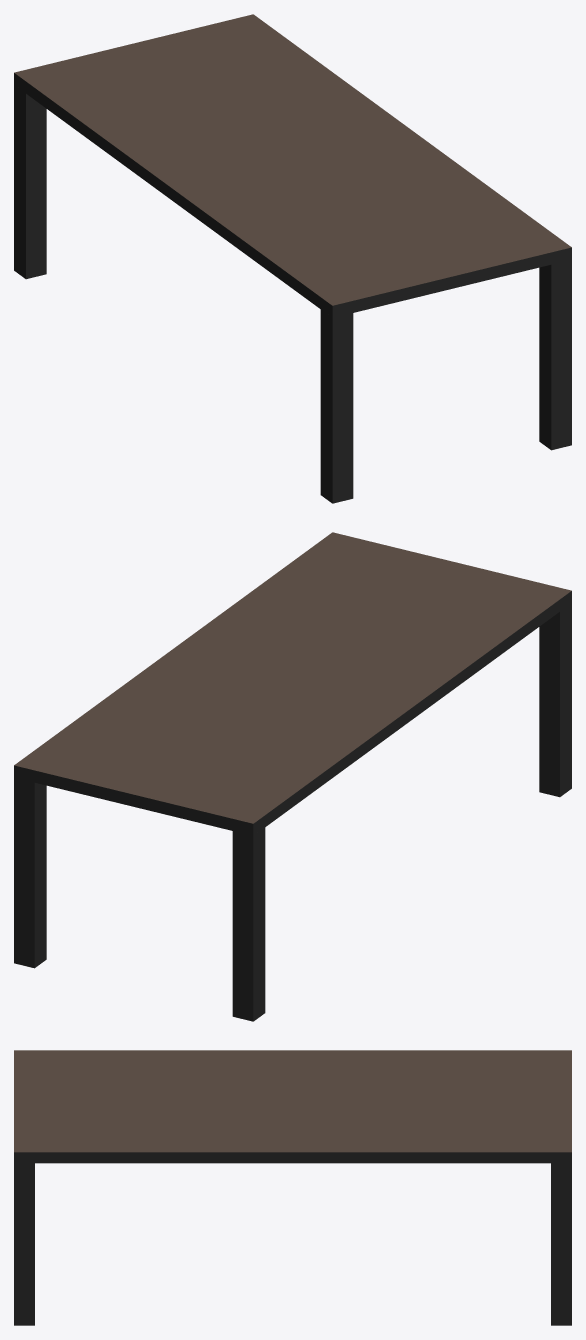
File: GrandeTable_10.fbx
The picture shows the model from 3 angles, top to bottom: view 1: azimuth 30°, elevation 25°; view 2: azimuth 150°, elevation 25°; view 3: azimuth 270°, elevation 25°; orthographic projection. The views are drawn at different scales.
Visible parts, largest first — view 1: pCube43, pCube47, pCube46, pCube49; view 2: pCube43, pCube49, pCube48, pCube47; view 3: pCube43, pCube48, pCube46.
Boxes of the visible parts, bbox=[...] form: pCube43: bbox=[14, 14, 571, 317]; pCube47: bbox=[320, 309, 353, 503]; pCube46: bbox=[539, 259, 571, 450]; pCube49: bbox=[14, 84, 46, 279]; pCube43: bbox=[14, 532, 571, 835]; pCube49: bbox=[232, 827, 265, 1021]; pCube48: bbox=[14, 777, 46, 968]; pCube47: bbox=[539, 602, 571, 797]; pCube43: bbox=[14, 1050, 571, 1163]; pCube48: bbox=[551, 1162, 571, 1325]; pCube46: bbox=[14, 1162, 34, 1325].
Size of the model in its own units: 50.06 by 39.53 by 115.
